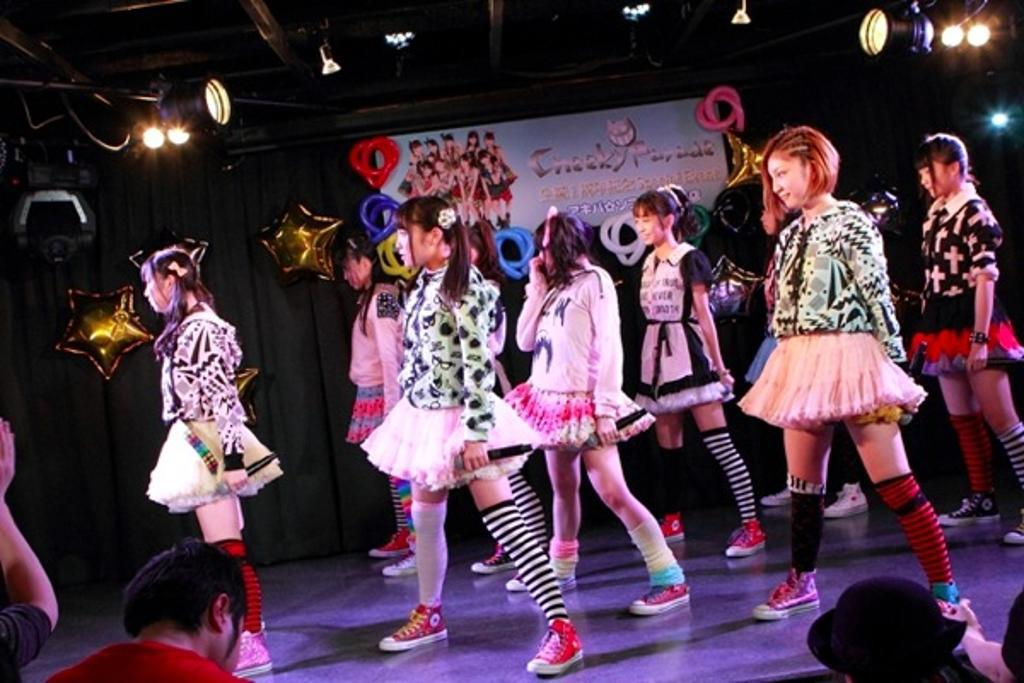face: (211, 587, 249, 674), (767, 157, 816, 210), (395, 221, 432, 271), (143, 271, 177, 315), (918, 156, 952, 199), (633, 206, 663, 247), (341, 258, 372, 292), (759, 203, 784, 235), (537, 244, 558, 279), (436, 162, 446, 173), (480, 156, 491, 165), (461, 159, 470, 169), (423, 168, 432, 177), (429, 144, 437, 153), (414, 146, 422, 153), (447, 140, 454, 148), (470, 137, 477, 145), (487, 139, 494, 147)
